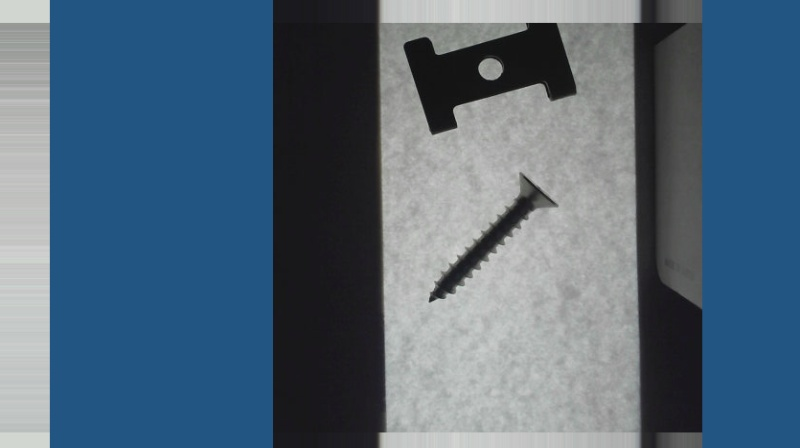O002: (402, 0, 577, 132)
S001: (424, 170, 556, 302)
